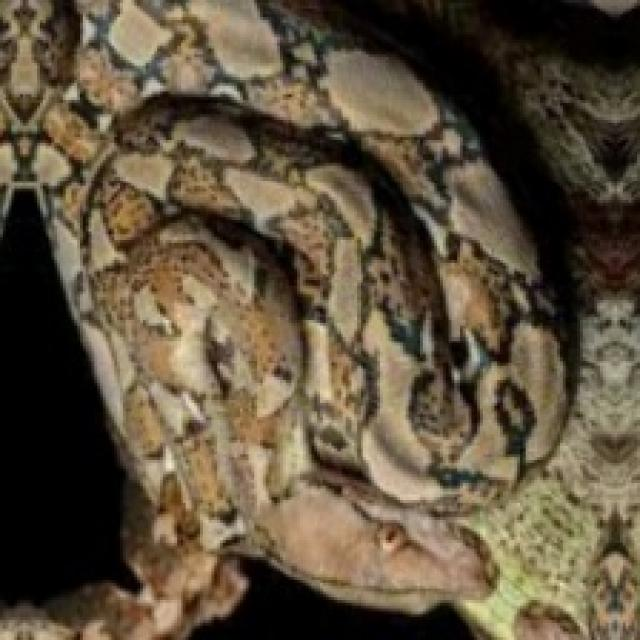reticulated python: (0, 0, 568, 640)
